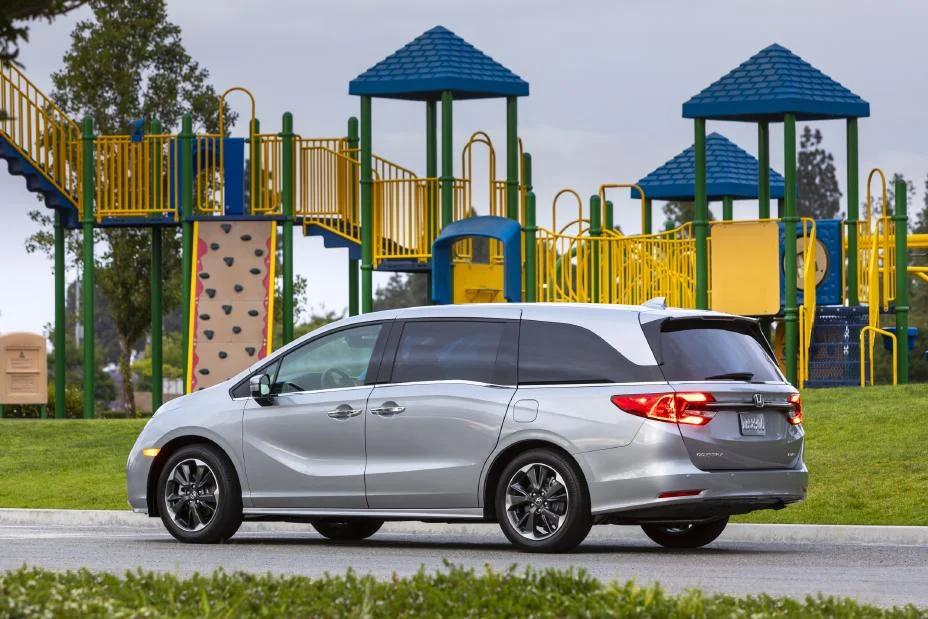Minivan: (126, 306, 808, 552)
